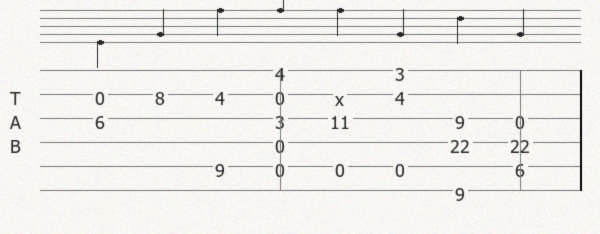0: (95, 86, 109, 103), (275, 134, 289, 151), (275, 86, 289, 103), (275, 158, 289, 175), (335, 158, 349, 175), (395, 158, 409, 175), (515, 110, 529, 127)
11: (330, 110, 354, 127)
22: (450, 134, 474, 151), (510, 134, 534, 151)
3: (275, 110, 289, 127), (395, 62, 409, 79)
4: (215, 86, 229, 103), (275, 62, 289, 79), (395, 86, 409, 103)
6: (95, 110, 109, 127), (515, 158, 529, 175)
8: (155, 86, 169, 103)
9: (215, 158, 229, 175), (455, 182, 469, 199), (455, 110, 469, 127)
x: (335, 87, 348, 101)
